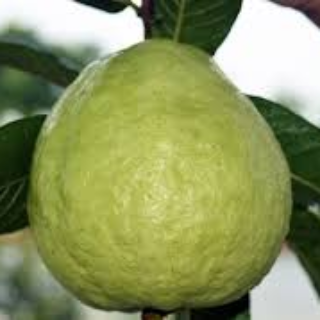oi: (27, 32, 294, 317)
